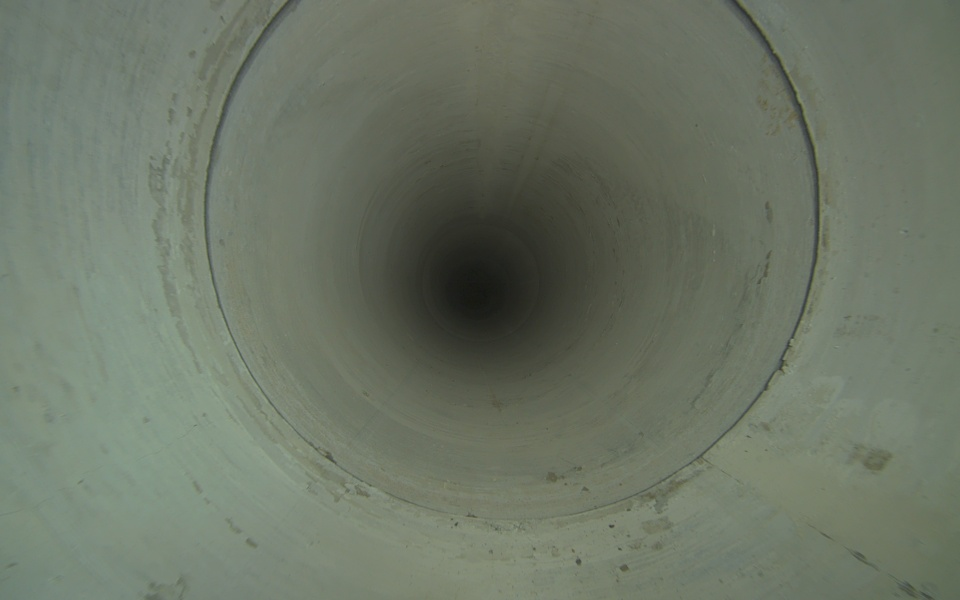circle1: (203, 0, 824, 524)
circle2: (459, 274, 496, 314)
